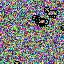sheep: (44, 7, 58, 19)
